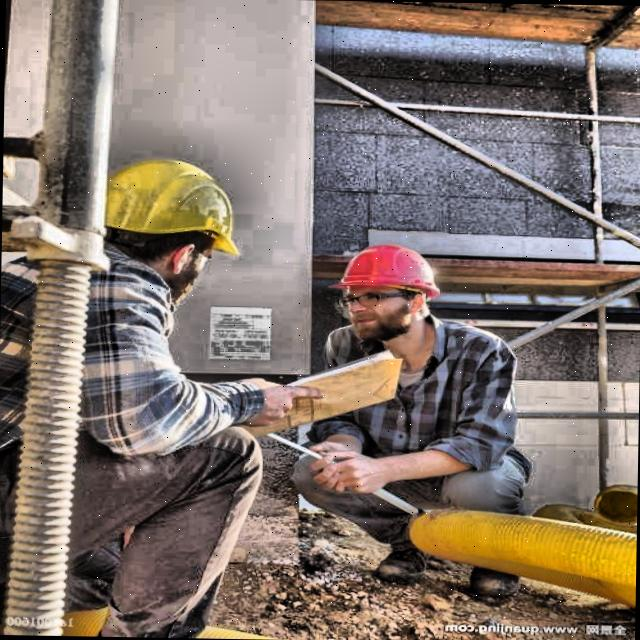helmet: (88, 145, 250, 303), (322, 236, 453, 351)
